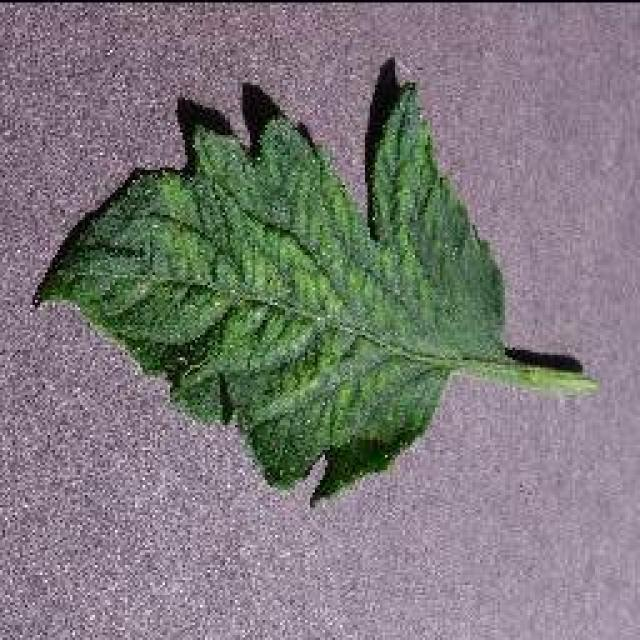Tomato___Tomato_mosaic_virus: (38, 80, 595, 502)
